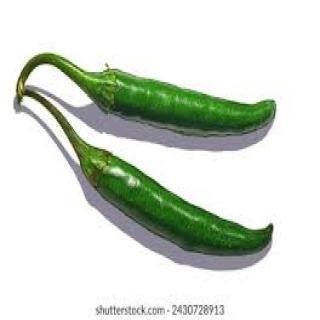Cabai Hijau: (26, 135, 280, 257), (75, 64, 279, 140)
